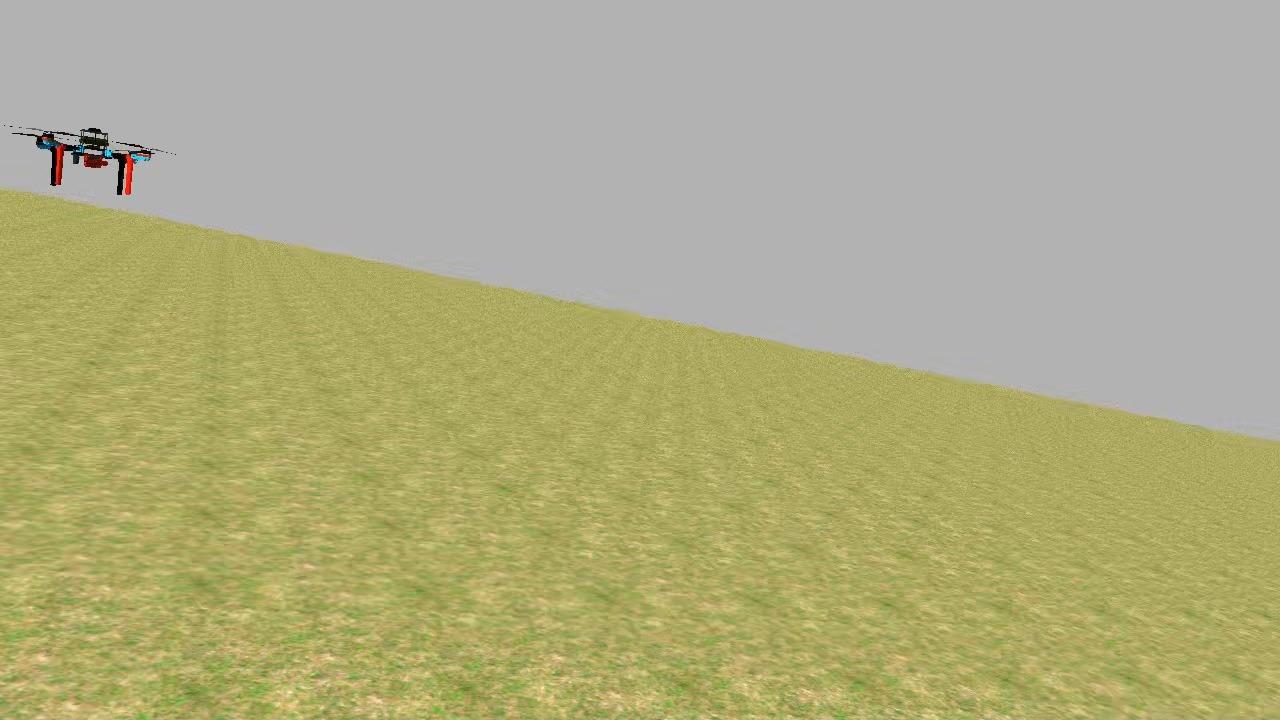UAV: (30, 118, 157, 206)
